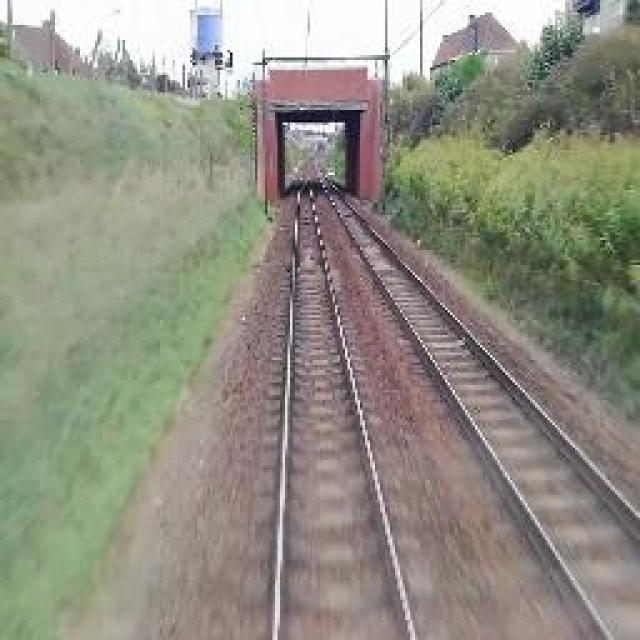rail: (226, 169, 447, 640)
